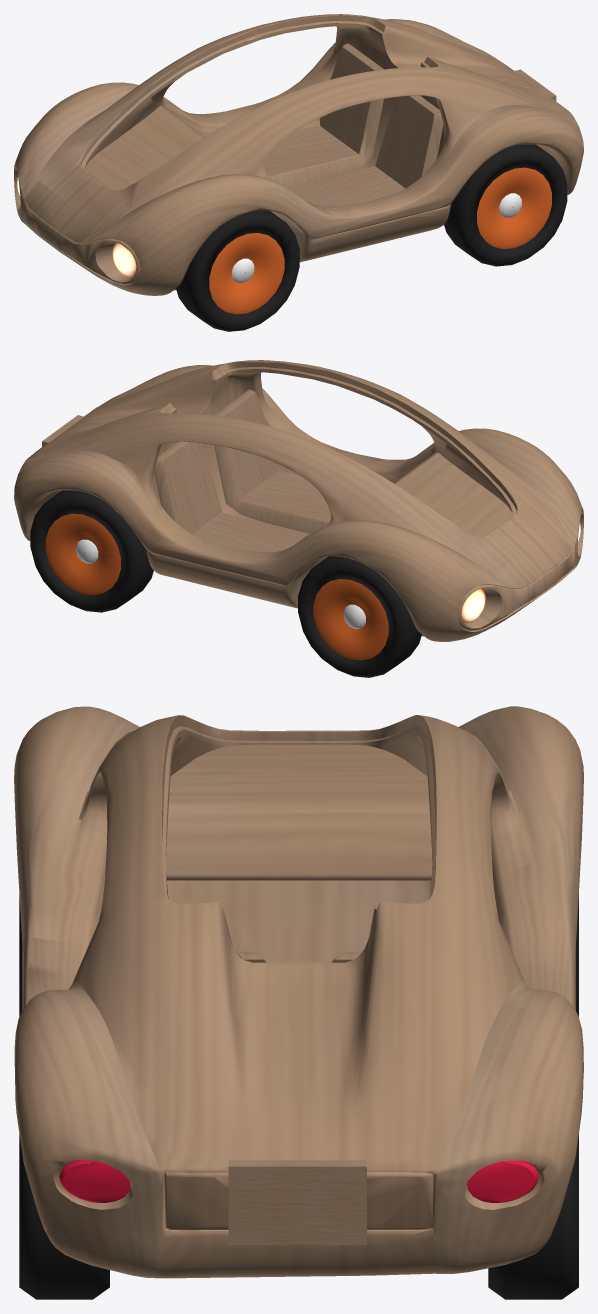
Rendered from auto-juguete.glb.
3 views of the same model, one above another, from view 1: azimuth 30°, elevation 25°; view 2: azimuth 150°, elevation 25°; view 3: azimuth 270°, elevation 25° (orthographic). The views are drawn at different scales.
Parts seen in each view (by area): view 1: Sphere.005_Wood_0, ruedas, Sphere.005_WoodInterior_0, Sphere.005_Light_0; view 2: Sphere.005_Wood_0, ruedas, Sphere.005_WoodInterior_0, Sphere.005_Light_0; view 3: Sphere.005_Wood_0, Sphere.005_WoodInterior_0, ruedas, Sphere.005_LightRear_0.
Part boxes in pixels (x1,y1,x2,y2): Sphere.005_Wood_0: (14, 14, 583, 295); ruedas: (176, 144, 567, 331); Sphere.005_WoodInterior_0: (85, 23, 556, 205); Sphere.005_Light_0: (17, 177, 136, 277); Sphere.005_Wood_0: (14, 360, 583, 641); ruedas: (30, 490, 421, 677); Sphere.005_WoodInterior_0: (42, 369, 512, 552); Sphere.005_Light_0: (461, 523, 580, 623); Sphere.005_Wood_0: (14, 706, 583, 1278); Sphere.005_WoodInterior_0: (165, 729, 432, 1244); ruedas: (19, 894, 578, 1299); Sphere.005_LightRear_0: (59, 1160, 538, 1202).
Bounding box in the file's own units: 0.3824 × 0.1482 × 0.2009.
Materials: 7 (2 with a texture image).
